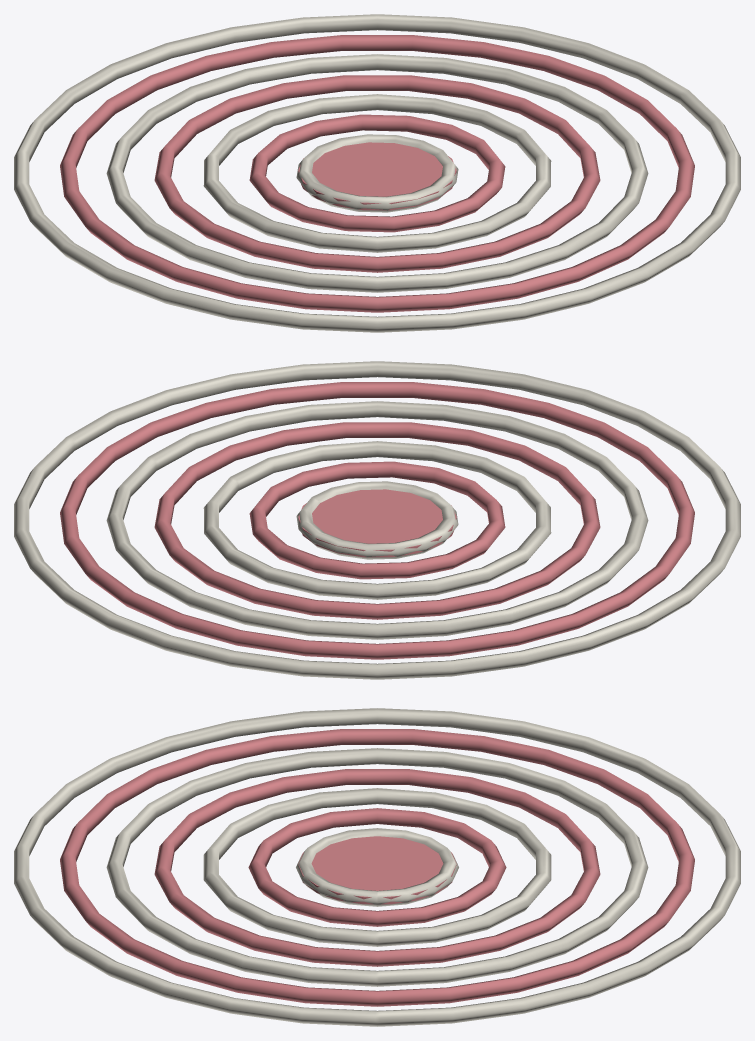
The model's file is witch-cottage-and-apothecary-braided-rug-ccf15ab7__32457.glb.
The picture shows the model from 3 angles, top to bottom: view 1: azimuth 30°, elevation 25°; view 2: azimuth 150°, elevation 25°; view 3: azimuth 270°, elevation 25°; orthographic projection.
Visible parts, largest first — view 1: braided-rug; view 2: braided-rug; view 3: braided-rug.
Boxes of the visible parts, x1,y1,x2,y2 form: braided-rug: (14, 14, 740, 332); braided-rug: (14, 361, 740, 679); braided-rug: (14, 708, 740, 1026).
Size of the model in its own units: 2.4 by 0.0532 by 2.38.
Materials: 2 (1 with a texture image).
